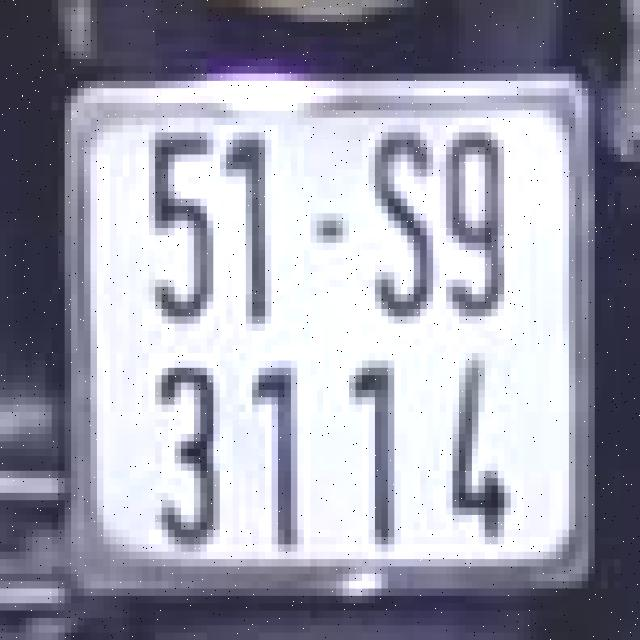1: (239, 349, 317, 563), (220, 114, 284, 335), (343, 324, 407, 544)
3: (142, 353, 226, 552)
4: (436, 346, 514, 552)
5: (139, 121, 223, 335)
9: (436, 114, 520, 335)
S: (366, 118, 436, 324)
